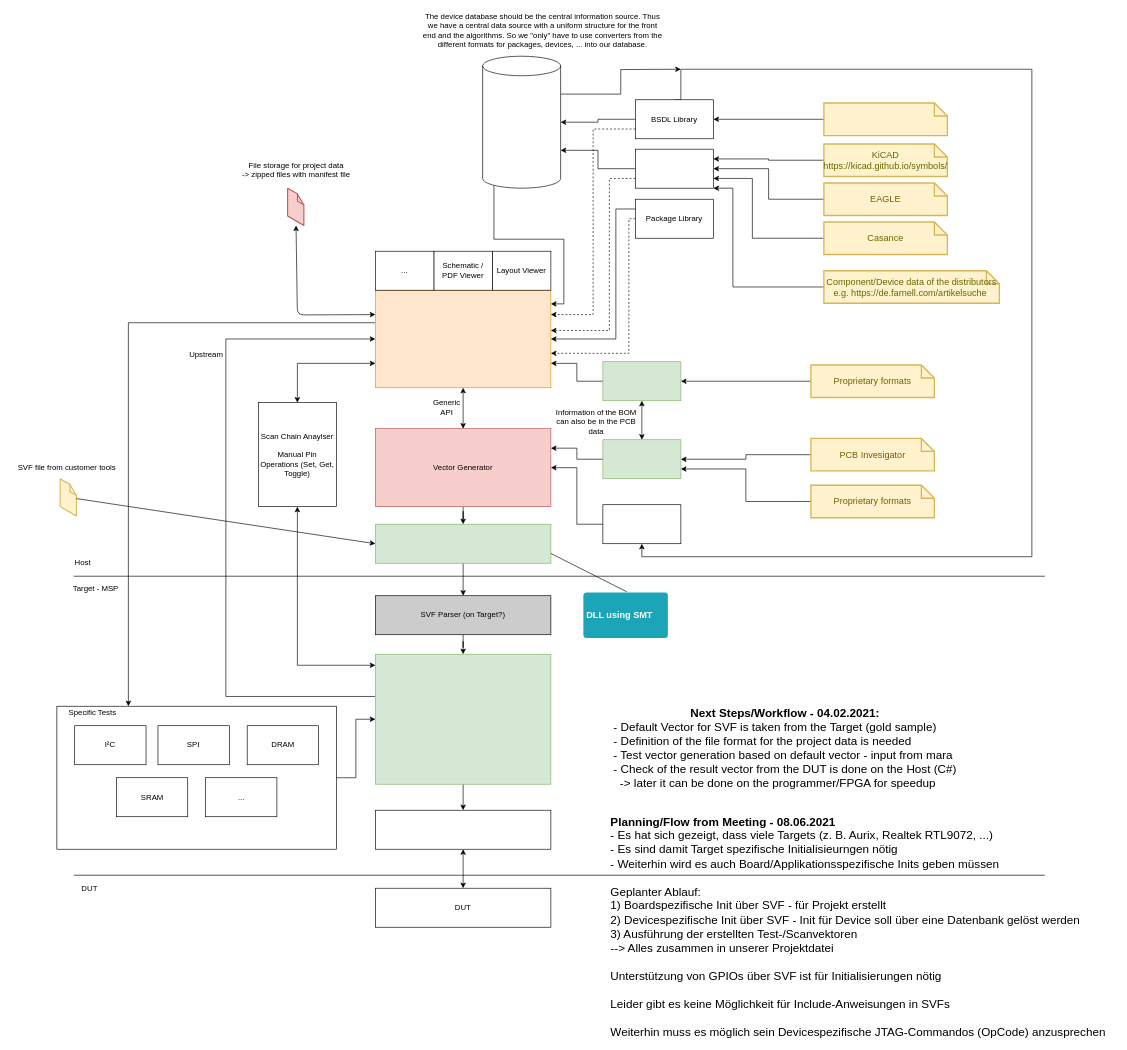
Some shapes in this 1127 by 1050 pixel diagram are drawn without their labels. The centre of each missing label's shape, as x and y in pixels:
APE: (463,829)
BOM (Bill of Meterial) Processor: (641,381)
BSDL Processor: (641,524)
bsdl.info: (885,119)
Device database: (521,122)
Device Library: (674,168)
Front End GUI: (463,339)
JTAG / SVF Player: (463,719)
Netlist Processor: (641,459)
SVF Parser (on Host): (463,543)
